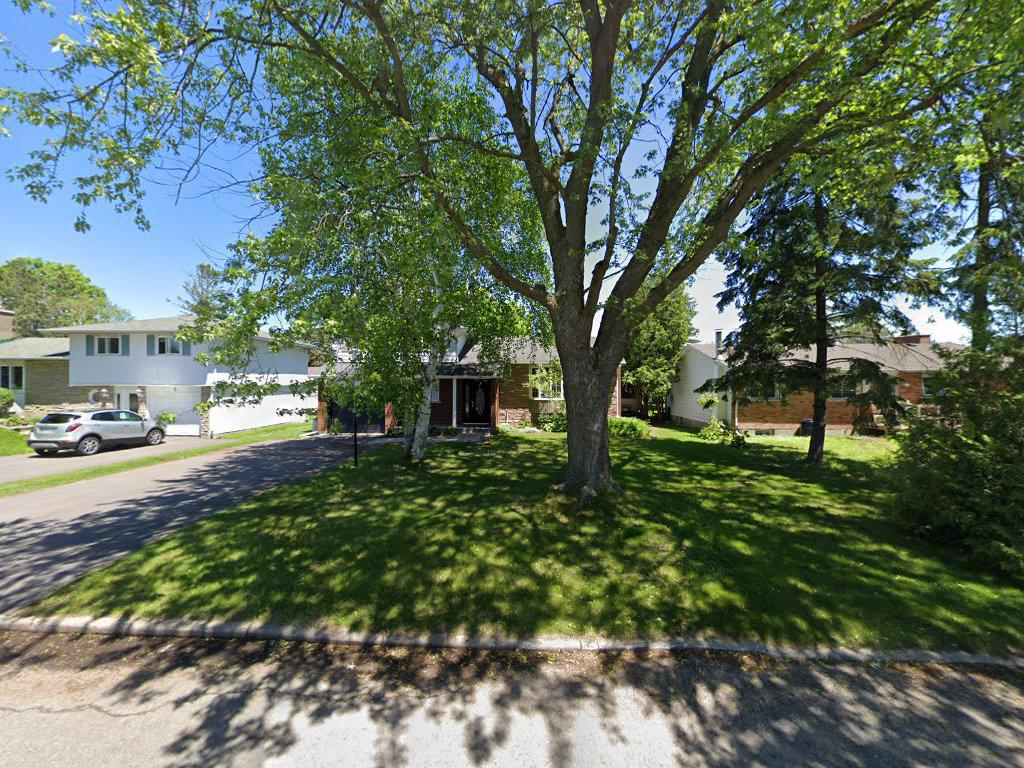trunk: (553, 229, 620, 506)
